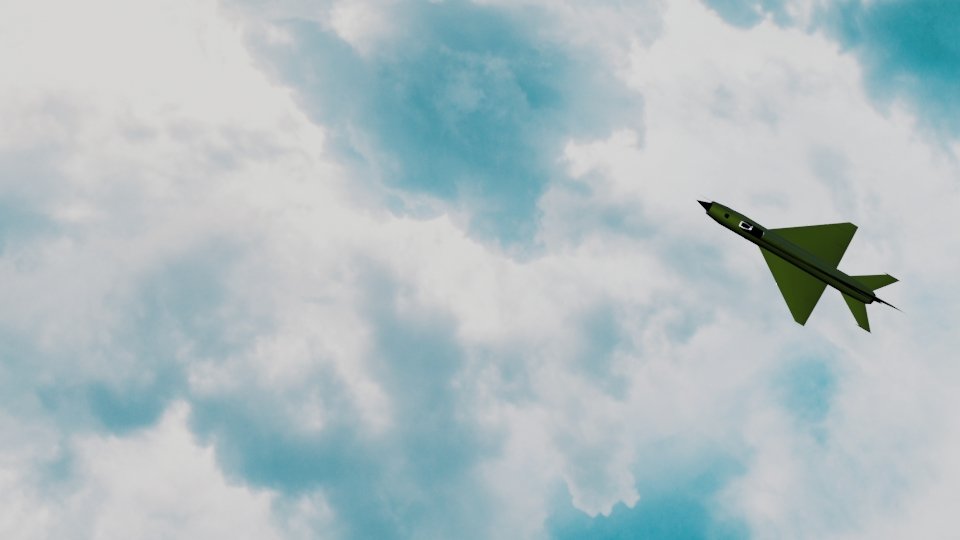plane: (693, 194, 898, 335)
